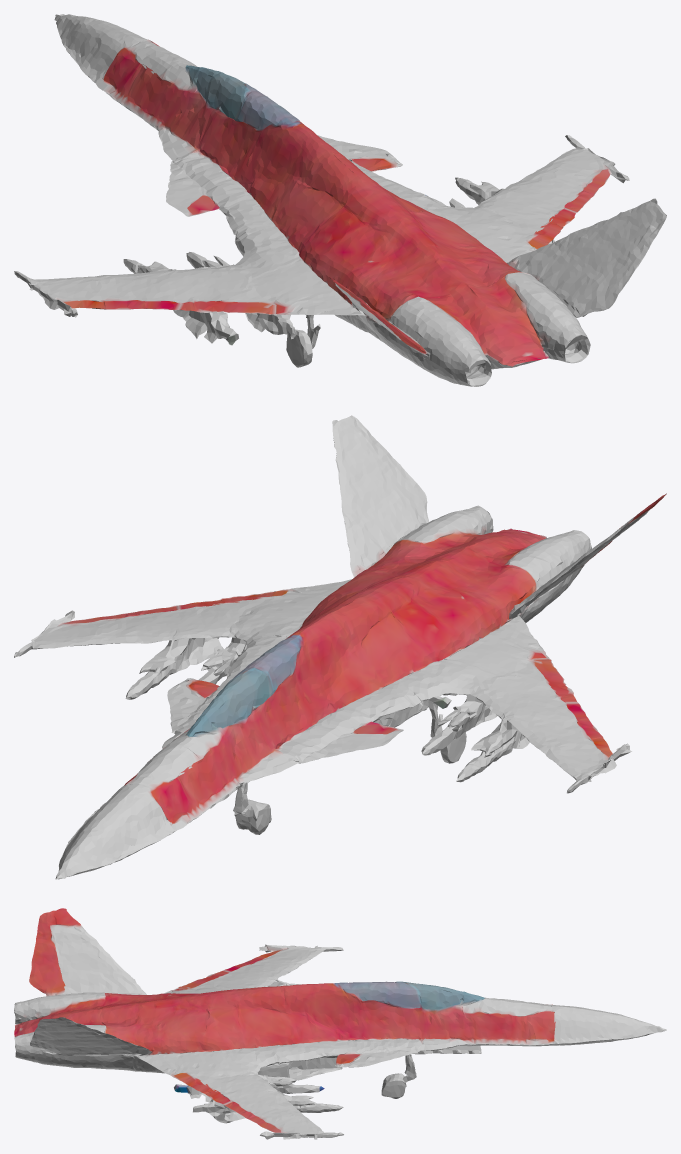
3 views of the same model, one above another, from view 1: azimuth 30°, elevation 25°; view 2: azimuth 150°, elevation 25°; view 3: azimuth 270°, elevation 25° (orthographic). The views are drawn at different scales.
Parts seen in each view (by area): view 1: defaultobject; view 2: defaultobject; view 3: defaultobject.
Part boxes in pixels (bbox=[...]): defaultobject: bbox=[14, 14, 666, 386]; defaultobject: bbox=[14, 415, 666, 879]; defaultobject: bbox=[14, 908, 666, 1139].
Size of the model in its own units: 0.654 by 0.2161 by 0.9504.
